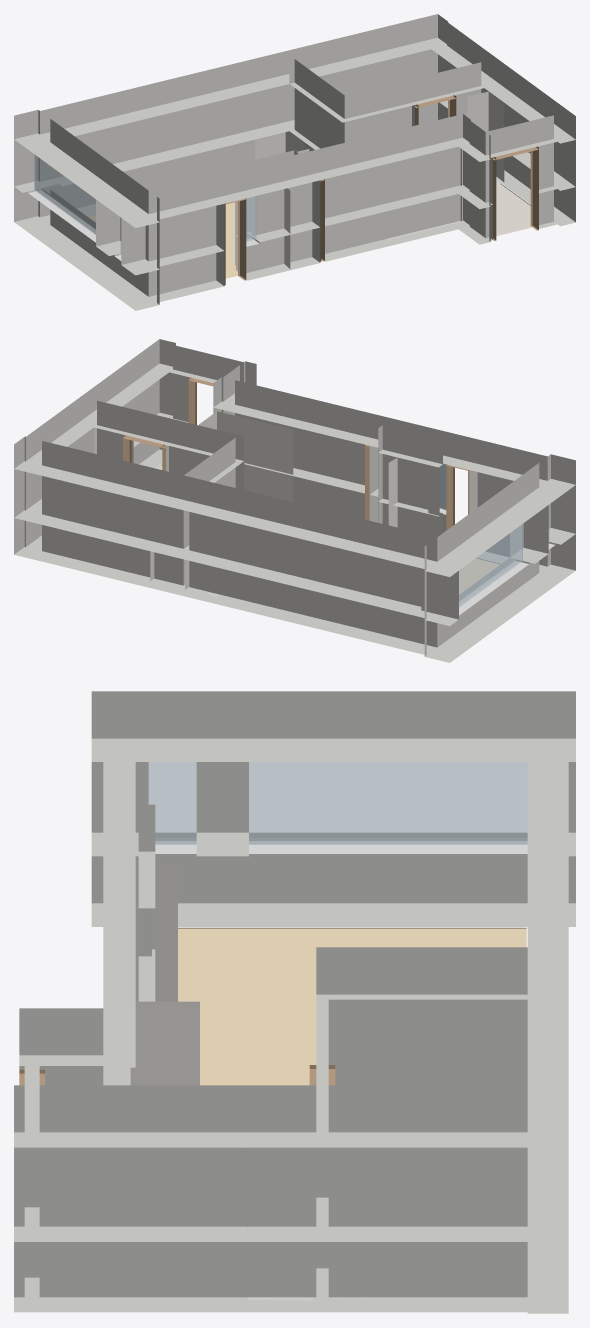
The picture shows the model from 3 angles, top to bottom: view 1: azimuth 30°, elevation 25°; view 2: azimuth 150°, elevation 25°; view 3: azimuth 270°, elevation 25°; orthographic projection. The views are drawn at different scales.
Parts seen in each view (by area): view 1: walls, window_2, furniture_0_closet, floor_1_Entry, door_0, furniture_3_appliance, sill_2, door_5, floor_0_Kitchen, furniture_2_closet, window_3, door_6 (+1 smaller); view 2: walls, furniture_1_closet, window_2, sill_2, furniture_2_closet, floor_0_Kitchen, door_5, door_0, door_1; view 3: walls, floor_0_Kitchen, window_2, furniture_1_closet, sill_2, furniture_2_closet, window_4.
Part boxes in pixels (bbox=[...]): walls: bbox=[14, 14, 575, 310]; window_2: bbox=[34, 143, 108, 234]; furniture_0_closet: bbox=[467, 91, 504, 184]; floor_1_Entry: bbox=[496, 183, 532, 236]; door_0: bbox=[493, 146, 538, 240]; furniture_3_appliance: bbox=[255, 131, 304, 159]; sill_2: bbox=[28, 188, 95, 242]; door_5: bbox=[224, 198, 246, 285]; floor_0_Kitchen: bbox=[87, 202, 237, 278]; furniture_2_closet: bbox=[235, 188, 290, 268]; window_3: bbox=[243, 196, 256, 241]; door_6: bbox=[320, 179, 324, 261]; walls: bbox=[14, 339, 575, 662]; furniture_1_closet: bbox=[199, 411, 293, 501]; window_2: bbox=[446, 524, 522, 607]; sill_2: bbox=[459, 559, 529, 615]; furniture_2_closet: bbox=[388, 457, 446, 532]; floor_0_Kitchen: bbox=[459, 558, 500, 594]; door_5: bbox=[446, 464, 469, 530]; door_0: bbox=[188, 377, 213, 424]; door_1: bbox=[123, 435, 165, 470]; walls: bbox=[14, 691, 575, 1313]; floor_0_Kitchen: bbox=[178, 927, 526, 1085]; window_2: bbox=[249, 750, 540, 844]; furniture_1_closet: bbox=[130, 1001, 199, 1085]; sill_2: bbox=[249, 838, 527, 853]; furniture_2_closet: bbox=[135, 862, 177, 1001]; window_4: bbox=[148, 750, 196, 844].
Bounding box in the file's own units: 11.21 × 2.72 × 6.49.
